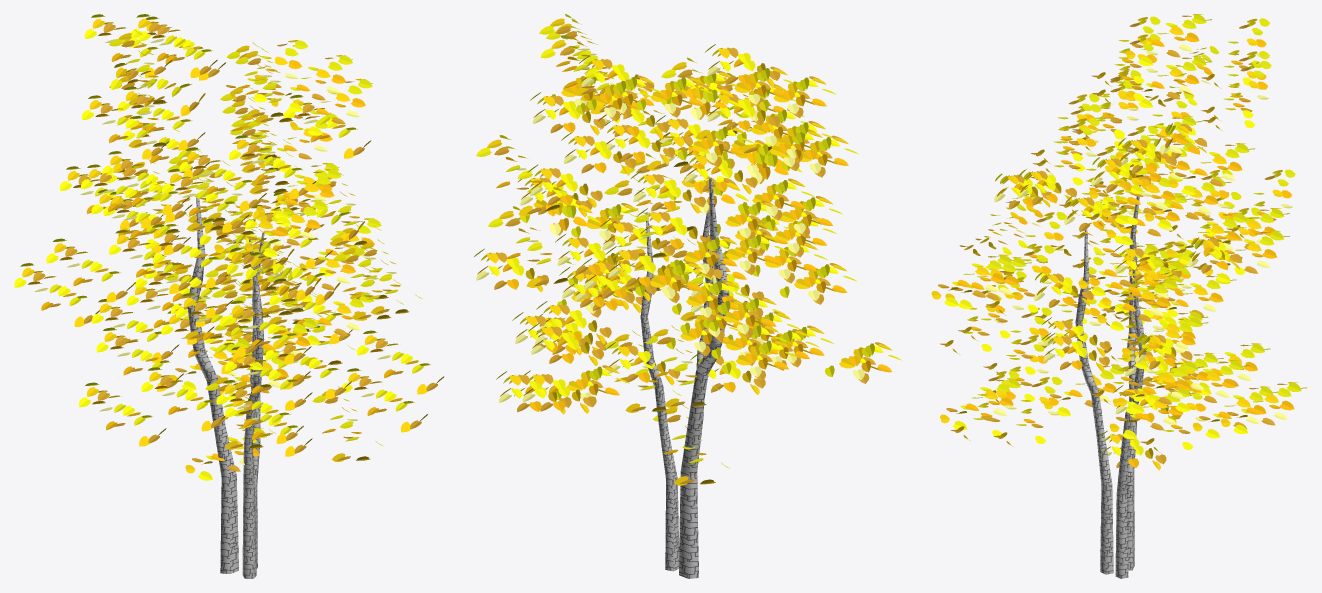
Rendered from Tree_Deciduous_Birch_Autumn_HighPolygon.dae.
3 renders of one model, left to right at view 1: azimuth 30°, elevation 25°; view 2: azimuth 150°, elevation 25°; view 3: azimuth 270°, elevation 25°, orthographic. The views are drawn at different scales.
Visible parts, largest first — view 1: group_0, group_1, group_2; view 2: group_0, group_2; view 3: group_1, group_2, group_0.
Part boxes in pixels (x1,y1,x2,y2): group_0: (187,197,238,573); group_1: (242,239,263,578); group_2: (250,232,264,568); group_0: (679,178,729,578); group_2: (640,212,679,571); group_1: (1075,223,1113,574); group_2: (1115,260,1145,578); group_0: (1127,185,1140,570).
Bounding box in the file's own units: 281 × 265 × 407.
Materials: 7 (1 with a texture image).
